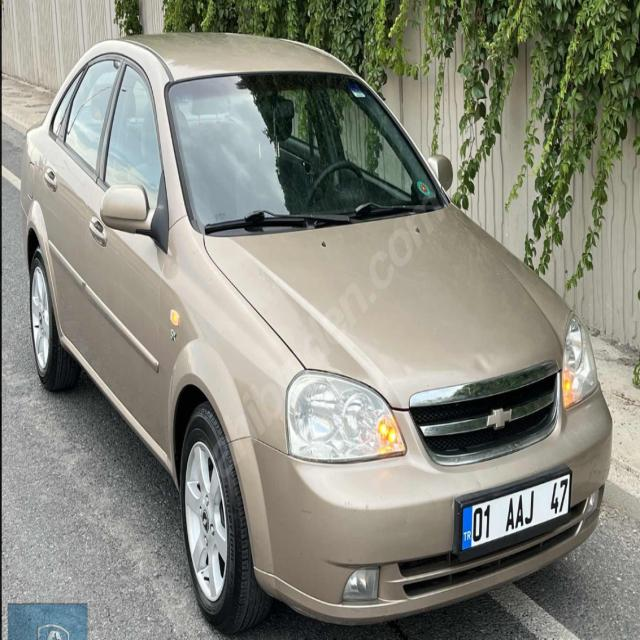chevrolet: (485, 404, 514, 433)
